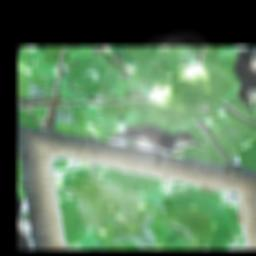Cuckoo: (104, 102, 206, 182)
